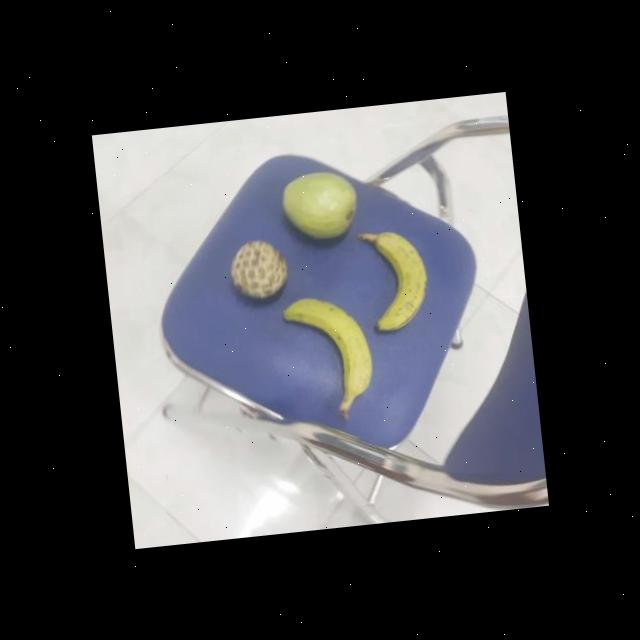Sakya fruit: (223, 238, 290, 302)
banana: (282, 291, 375, 397), (355, 227, 431, 329)
guava: (276, 167, 362, 246)
